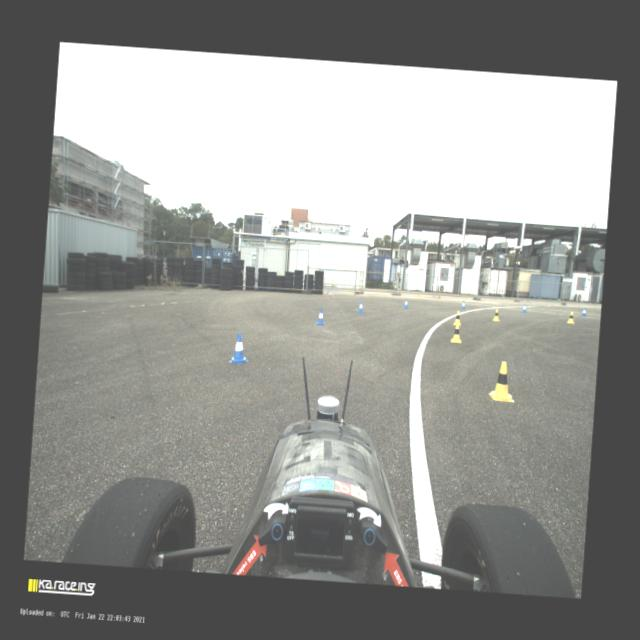blue_cone: (228, 332, 250, 364), (314, 308, 325, 326), (357, 300, 364, 312), (580, 307, 587, 316), (402, 298, 408, 308), (460, 300, 466, 309), (520, 303, 526, 312)
yellow_cone: (488, 360, 516, 402), (450, 322, 462, 342), (452, 310, 462, 325), (492, 308, 501, 322), (566, 311, 574, 323)
